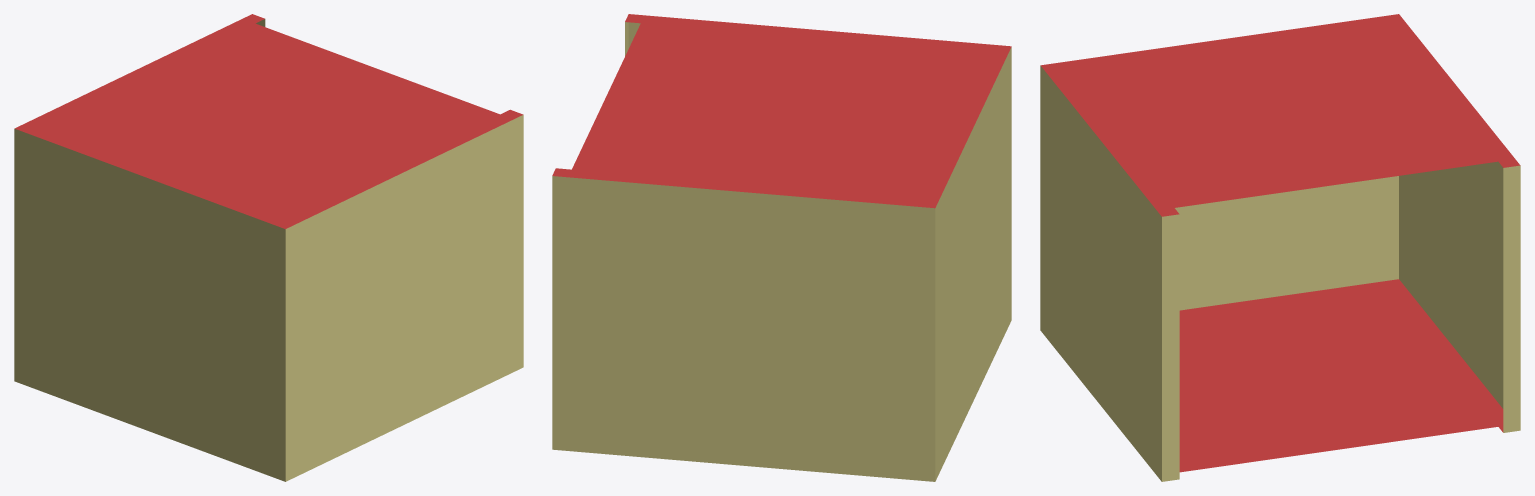
3 views of the same model, side by side, from view 1: azimuth 30°, elevation 25°; view 2: azimuth 150°, elevation 25°; view 3: azimuth 270°, elevation 25° (orthographic). The views are drawn at different scales.
Visible parts, largest first — view 1: group_4, group_3; view 2: group_4, group_3; view 3: group_4, group_3, group_5.
Part boxes in pixels (box(x1,y1,x2,y2)): group_4: box(14, 19, 523, 481); group_3: box(15, 14, 523, 228); group_4: box(552, 22, 1011, 481); group_3: box(552, 14, 1011, 208); group_4: box(1040, 65, 1520, 481); group_3: box(1041, 14, 1520, 216); group_5: box(1179, 279, 1503, 472).
Size of the model in its own units: 11.86 by 11.86 by 7.23.
